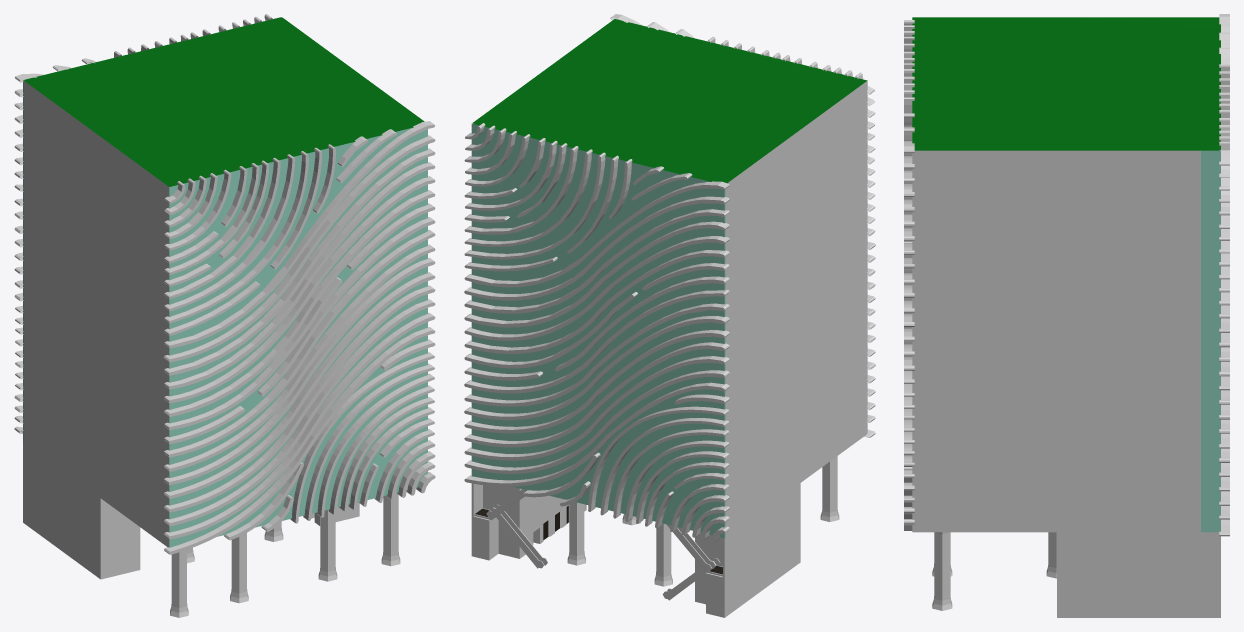
File: Henry Sy Sr Hall.fbx
The picture shows the model from 3 angles, left to right: view 1: azimuth 30°, elevation 25°; view 2: azimuth 150°, elevation 25°; view 3: azimuth 270°, elevation 25°; orthographic projection. The views are drawn at different scales.
Parts seen in each view (by area): view 1: Henry Sy Sr. Hall; view 2: Henry Sy Sr. Hall; view 3: Henry Sy Sr. Hall.
Boxes of the visible parts, x1=… form: Henry Sy Sr. Hall: x1=14, y1=14, x2=435, y2=617; Henry Sy Sr. Hall: x1=464, y1=14, x2=875, y2=617; Henry Sy Sr. Hall: x1=904, y1=14, x2=1229, y2=617.
Size of the model in its own units: 145 by 232 by 145.
